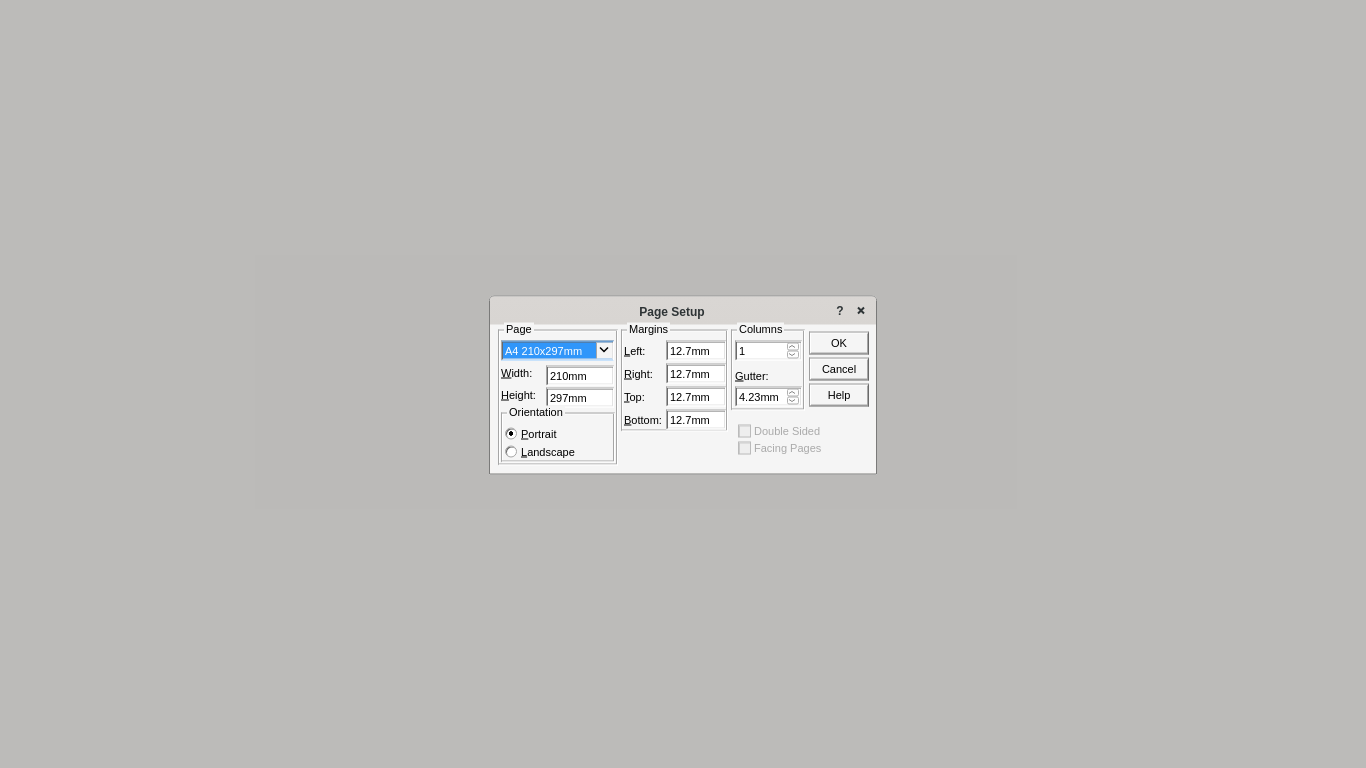
Test: fills folio dimensions
This screenshot has width=1366, height=768.
Select "Folio 8.5x13\"" in the dropdown named "Page size". click: (558, 350)
box: [501, 340, 614, 360]
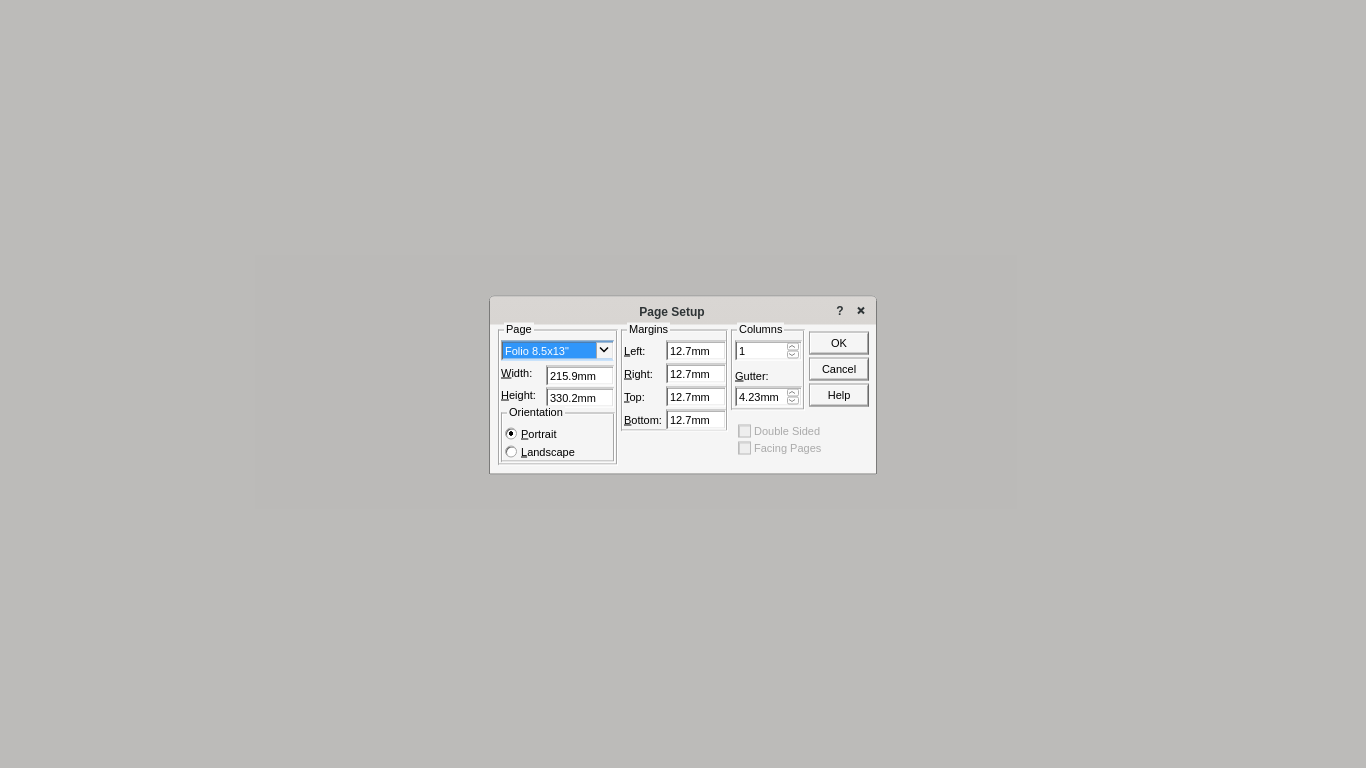
Now the field labelled "Width" holds "215.9mm", box [546, 365, 614, 385]
Now the field labelled "Height" holds "330.2mm", box [546, 387, 614, 407]
